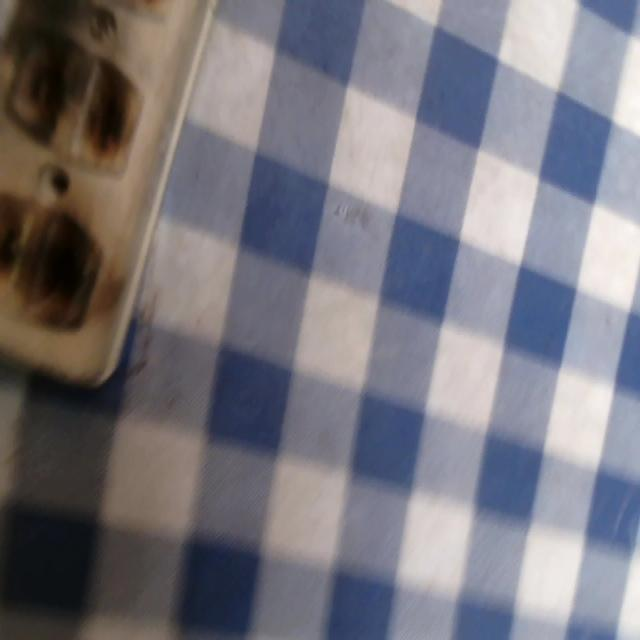-: (7, 24, 139, 176), (0, 194, 104, 334)
